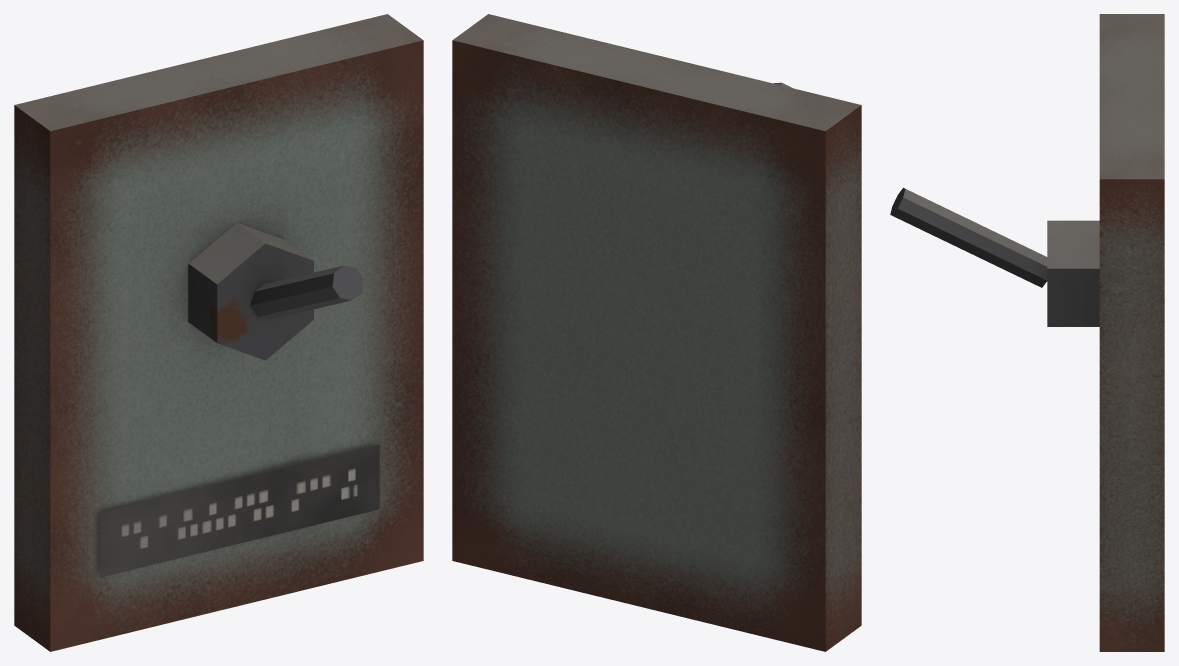
File: SM_Switch_Toggle.fbx
3 renders of one model, left to right at view 1: azimuth 30°, elevation 25°; view 2: azimuth 150°, elevation 25°; view 3: azimuth 270°, elevation 25°, orthographic. The views are drawn at different scales.
Visible parts, largest first — view 1: SM_Switch_Toggle; view 2: SM_Switch_Toggle; view 3: SM_Switch_Toggle.
Part boxes in pixels (box(x1,y1,x2,y2)): SM_Switch_Toggle: box(14, 14, 423, 651); SM_Switch_Toggle: box(452, 14, 861, 651); SM_Switch_Toggle: box(890, 14, 1164, 651).
Size of the model in its own units: 0.06 by 0.08 by 0.0421.
1 material, 1 textured.
